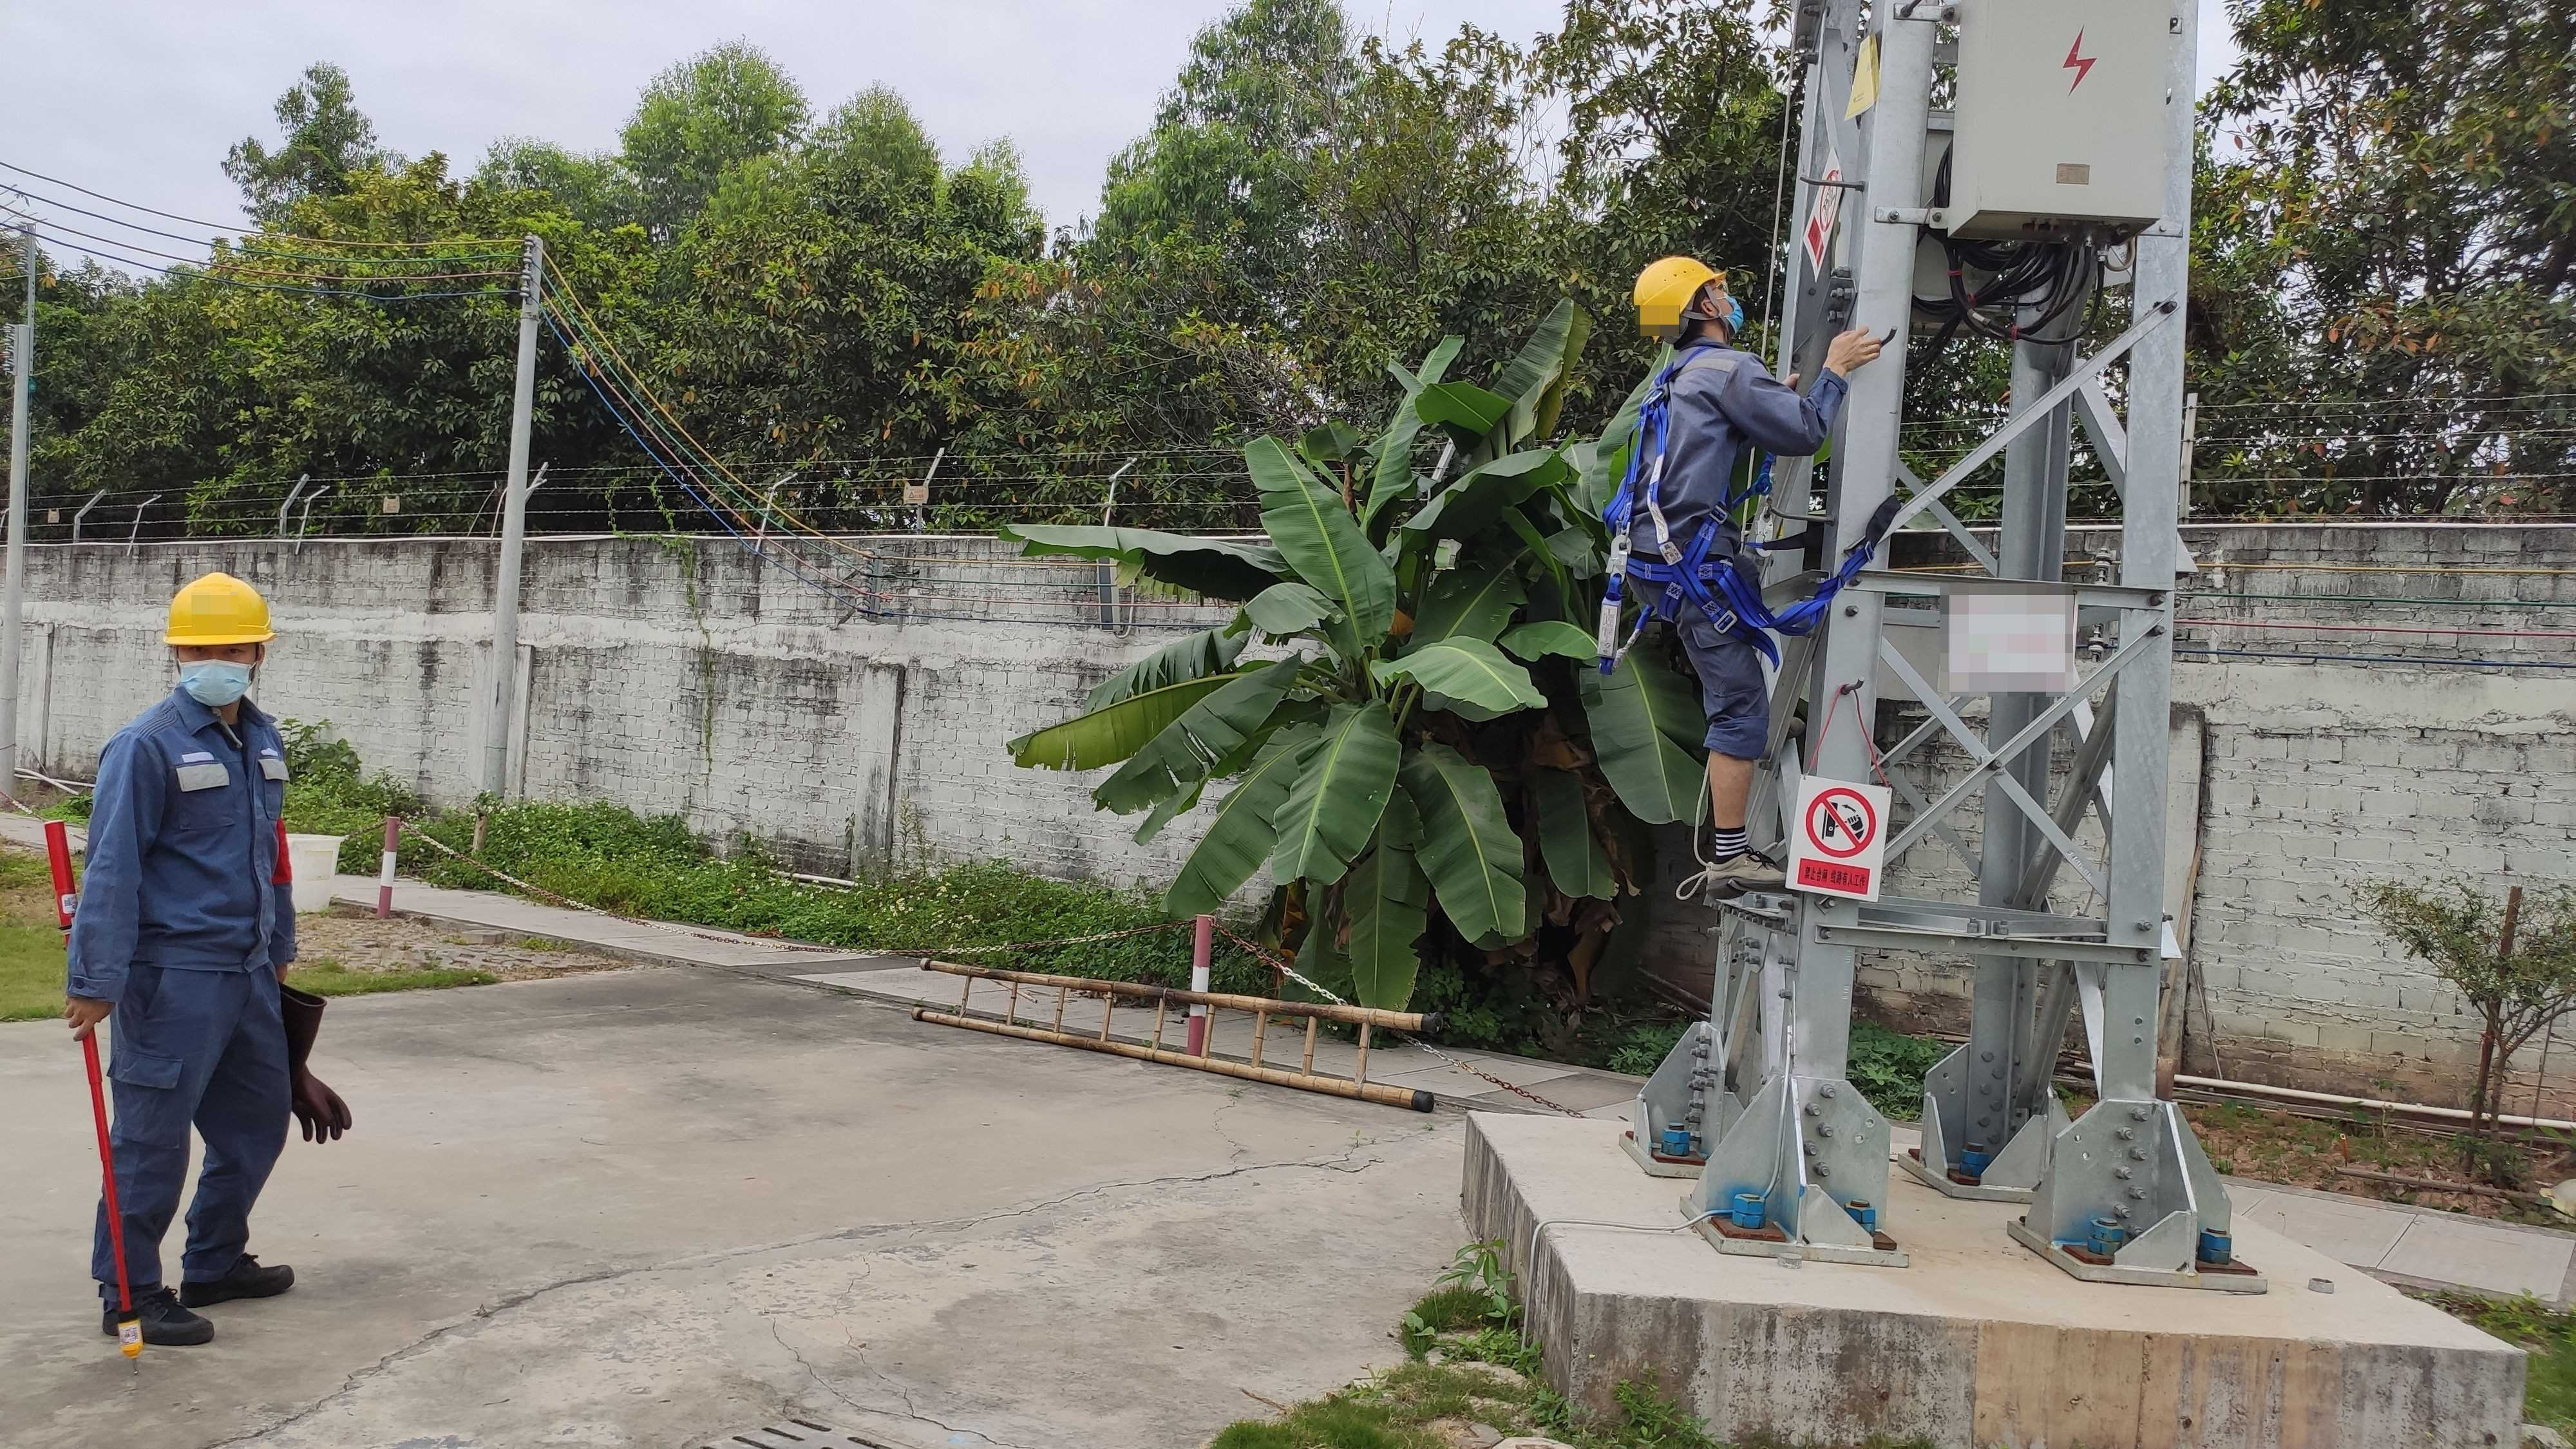downsuit: (94, 989, 304, 1295), (1631, 580, 1803, 768)
upsuit: (71, 695, 311, 980), (1605, 340, 1842, 568)
wrongbottom: (1700, 708, 1766, 846)
